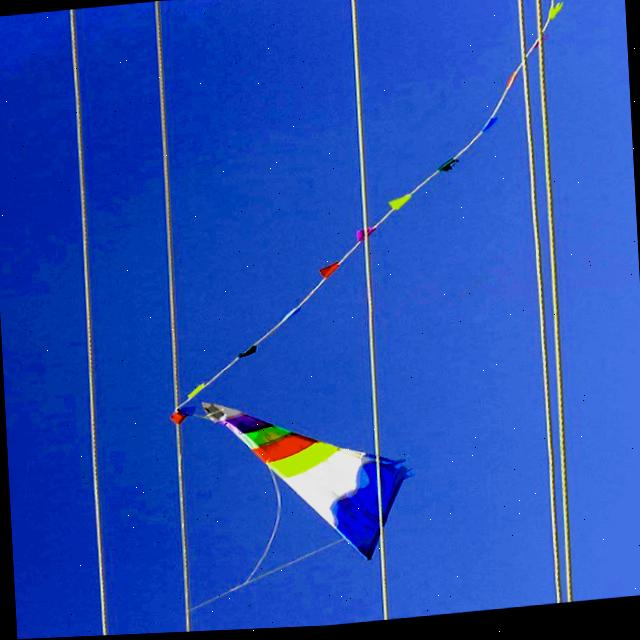obstruction: (173, 151, 466, 424), (175, 395, 408, 623), (459, 0, 560, 160)
wires: (528, 45, 576, 608), (68, 10, 109, 636), (153, 2, 180, 400), (349, 0, 370, 221), (175, 428, 196, 634), (66, 10, 82, 155)
